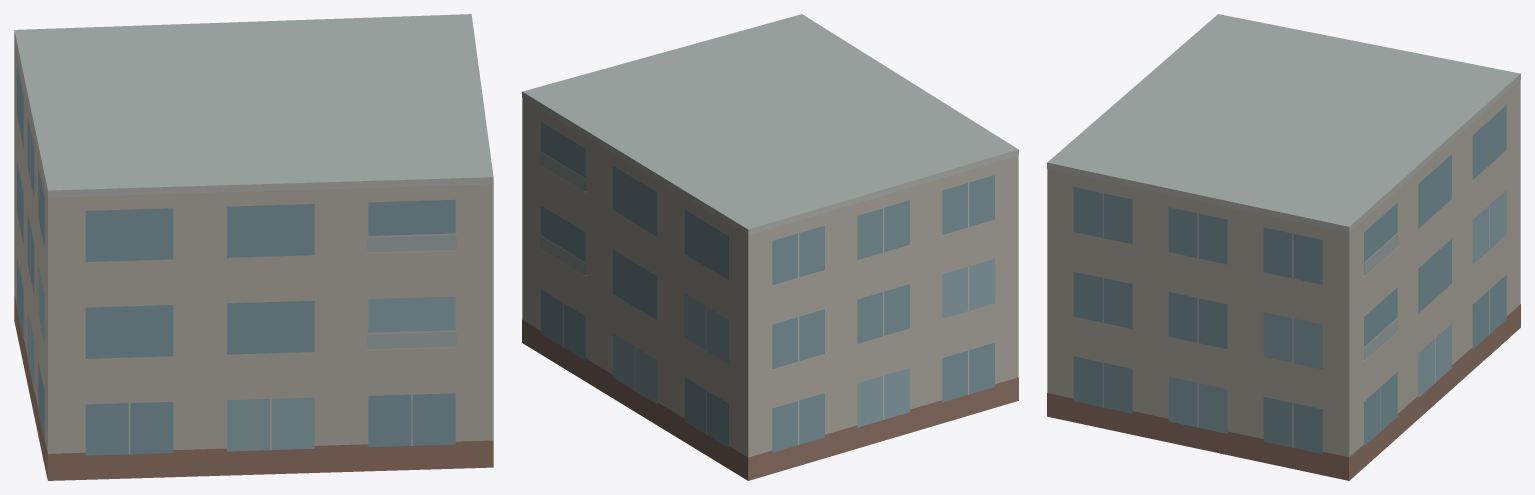
The model's file is survey-upis-32848705.glb.
3 renders of one model, left to right at view 1: azimuth 30°, elevation 25°; view 2: azimuth 150°, elevation 25°; view 3: azimuth 270°, elevation 25°, orthographic. The views are drawn at different scales.
Visible parts, largest first — view 1: survey-upis-32848705.tmp; view 2: survey-upis-32848705.tmp; view 3: survey-upis-32848705.tmp.
Part boxes in pixels (bbox=[...]): survey-upis-32848705.tmp: bbox=[14, 14, 493, 480]; survey-upis-32848705.tmp: bbox=[522, 14, 1018, 480]; survey-upis-32848705.tmp: bbox=[1047, 14, 1520, 480].
Size of the model in its own units: 18.34 by 10.2 by 17.25.
